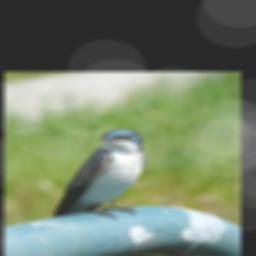Swallow: (52, 128, 149, 221)
